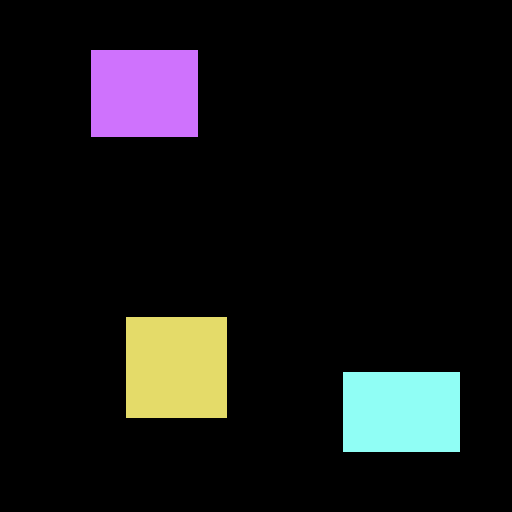rectangle: (343, 372, 459, 451), (91, 50, 197, 136)
square: (126, 317, 226, 417)
